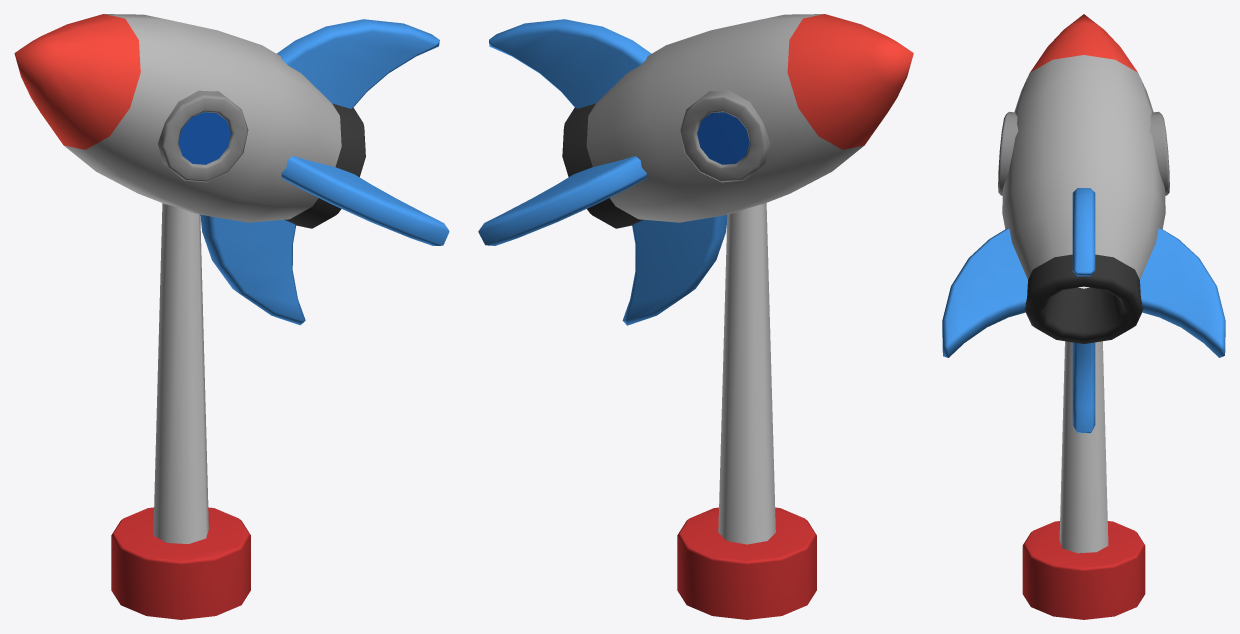
File: decoration_003.gltf
3 views of the same model, side by side, from view 1: azimuth 30°, elevation 25°; view 2: azimuth 150°, elevation 25°; view 3: azimuth 270°, elevation 25° (orthographic). The views are drawn at different scales.
Parts seen in each view (by area): view 1: decoration_003; view 2: decoration_003; view 3: decoration_003.
Part boxes in pixels (x1=…): decoration_003: x1=14, y1=14, x2=449, y2=619; decoration_003: x1=478, y1=14, x2=913, y2=619; decoration_003: x1=942, y1=14, x2=1225, y2=619.
Bounding box in the file's own units: 10.15 × 13.51 × 6.72.
Materials: 2 (1 with a texture image).
